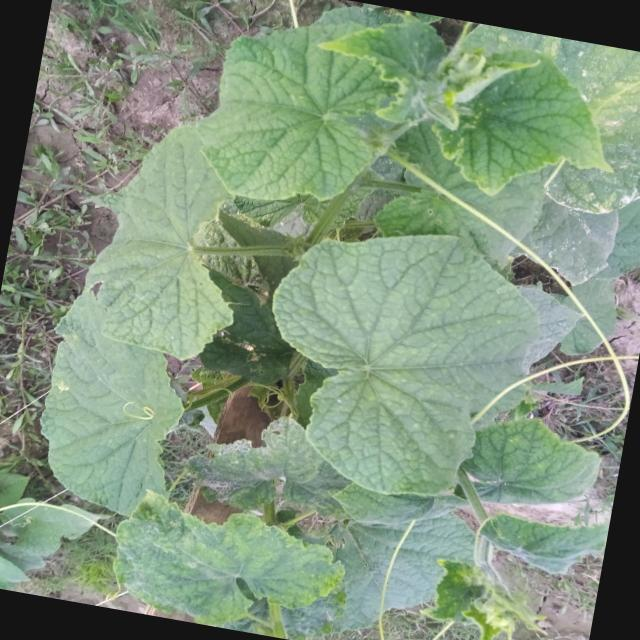cucumber_healthy: (233, 192, 554, 518), (65, 109, 269, 376), (174, 0, 409, 224), (17, 286, 204, 536), (92, 477, 356, 640), (418, 39, 634, 220), (450, 385, 611, 523)
